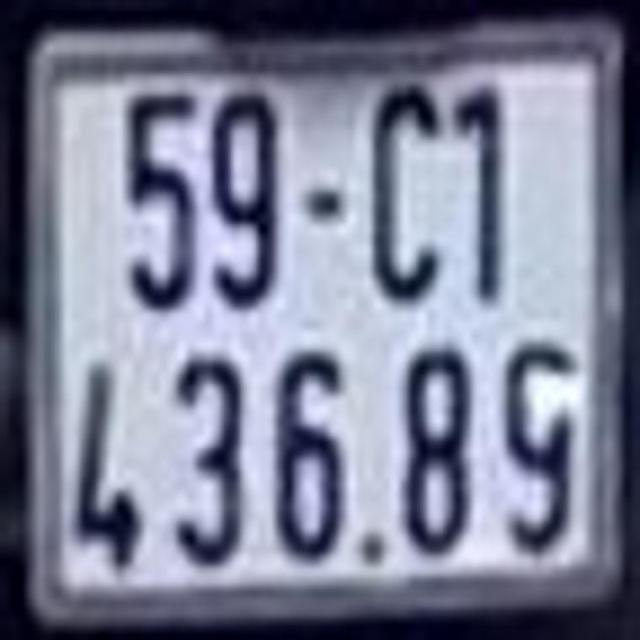1: (460, 87, 512, 299)
3: (166, 353, 240, 562)
4: (75, 361, 151, 562)
5: (128, 93, 193, 310)
6: (275, 346, 345, 559)
8: (408, 347, 468, 543)
9: (208, 91, 275, 311), (509, 342, 575, 548)
C: (368, 92, 444, 294)
